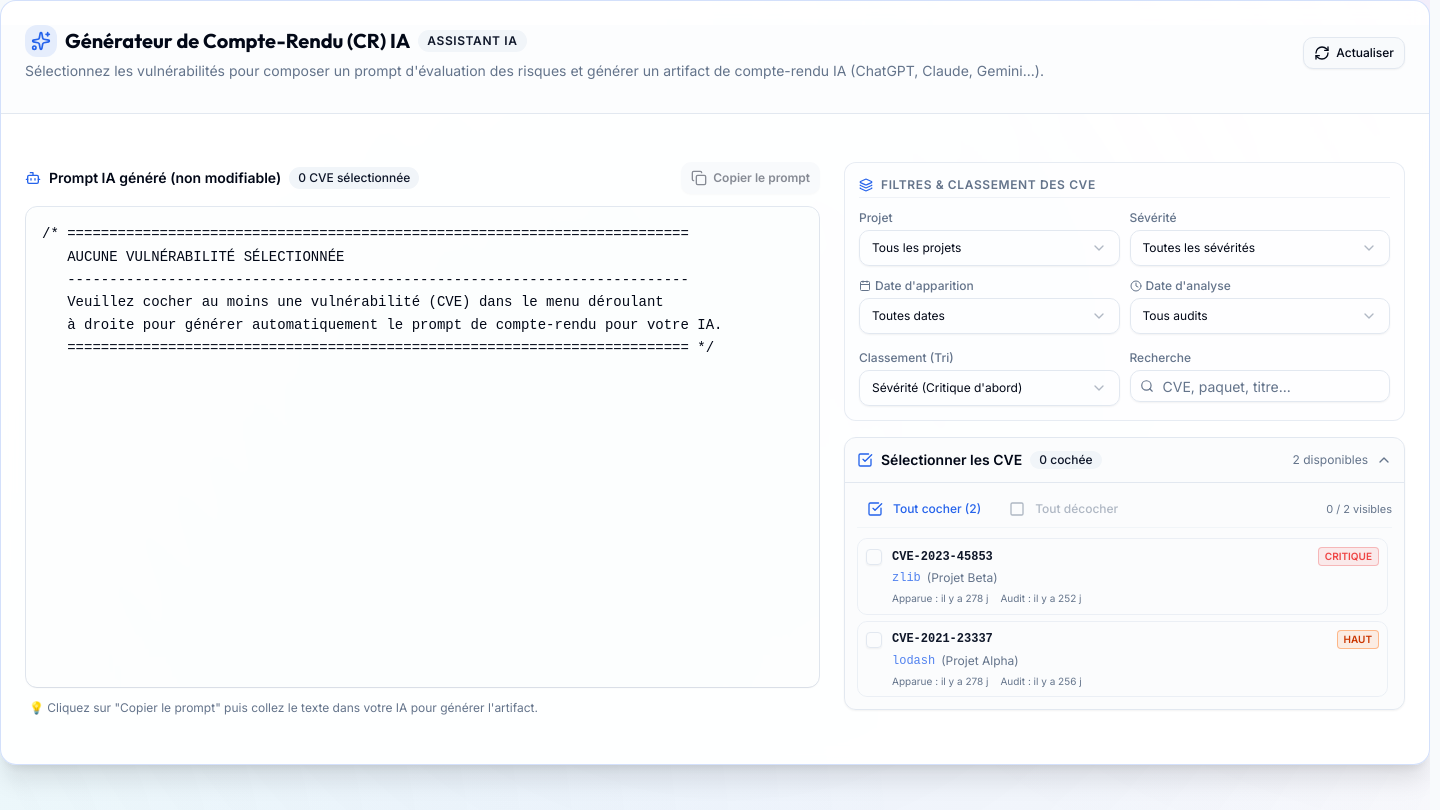
PromptReportGenerator Component › le menu déroulant peut être replié et déplié
This screenshot has width=1440, height=810.
Expected: the text "CVE-2021-23337" is shown, [892,631,993,647]
What coordinates should you click on to do the following:
click the button with aria-label "Menu déroulant pour sélectionner les CVE"
I would click on:
 (952, 460)
Its box is [845,438,1404,482].
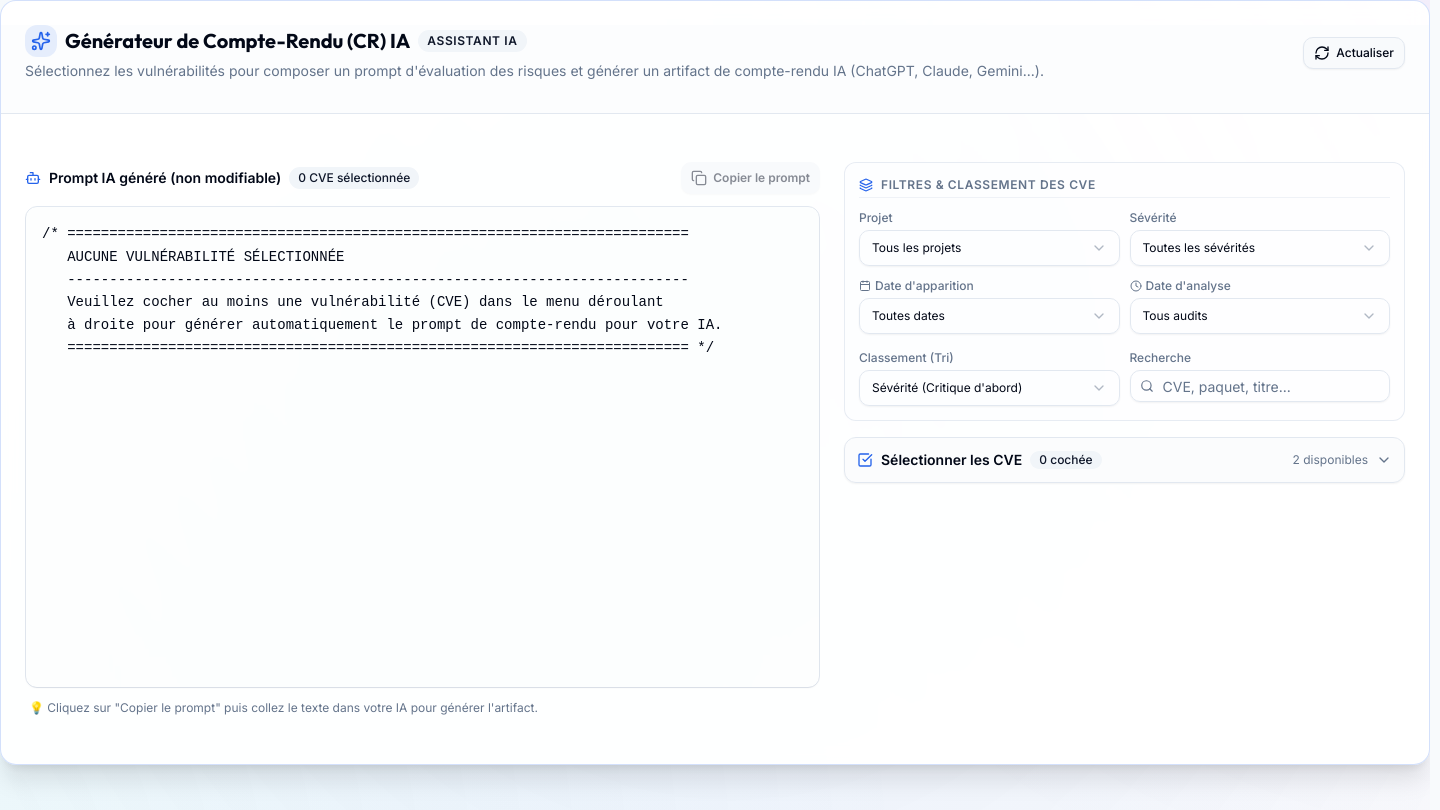
Result: the text "CVE-2021-23337" is gone
# Clic pour redéplier
What coordinates should you click on to do the following:
click the button with aria-label "Menu déroulant pour sélectionner les CVE"
I would click on:
 (952, 460)
Its box is [845,438,1404,482].
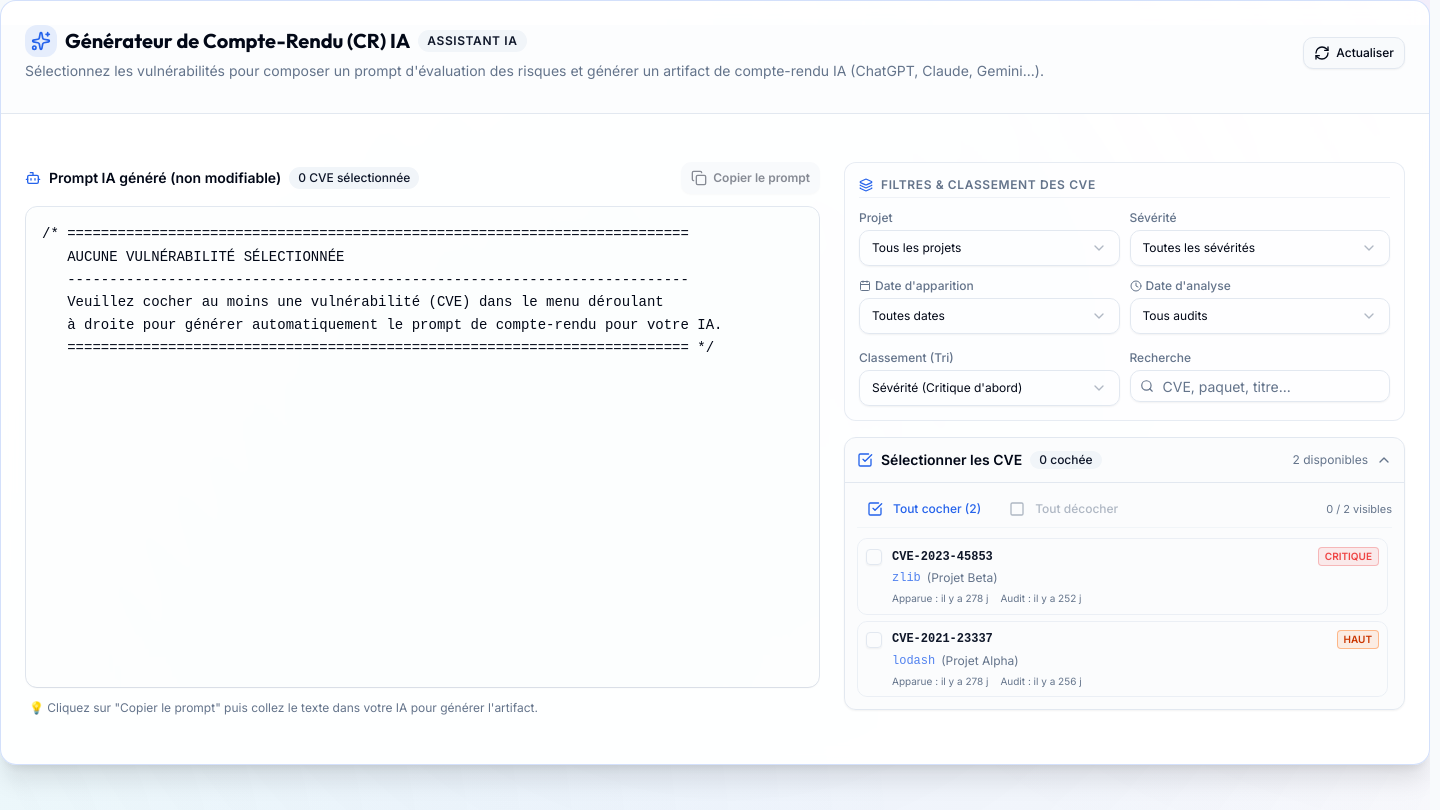
Result: the text "CVE-2021-23337" is shown at [892,631,993,647]
